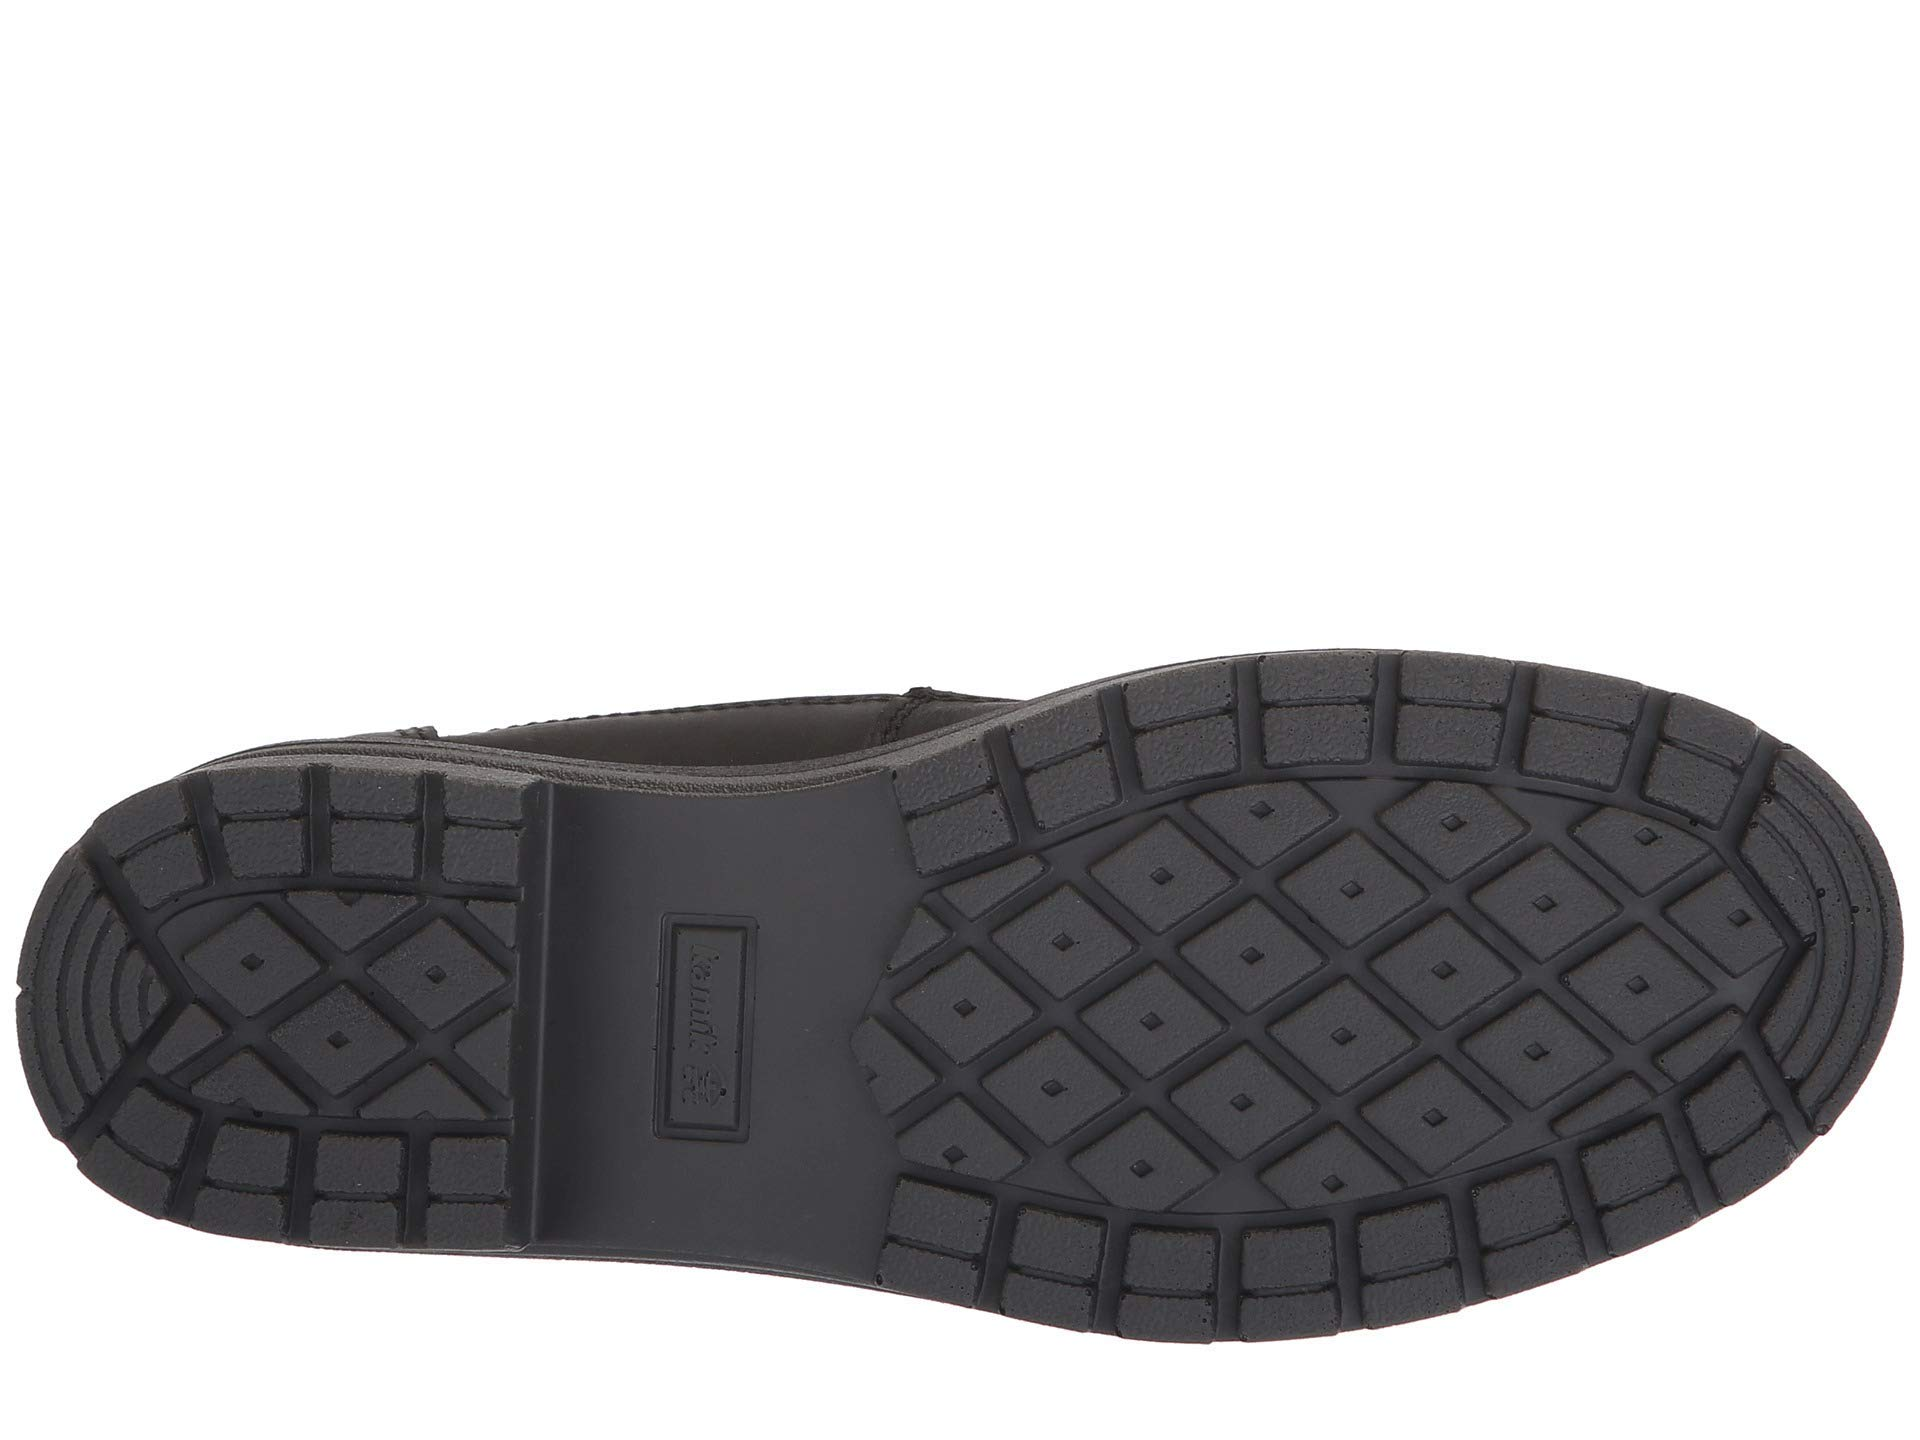quad: (1061, 836, 1624, 1109), (172, 900, 503, 1130), (892, 1168, 1228, 1292), (1442, 1144, 1598, 1286), (1385, 643, 1528, 787), (186, 755, 321, 886), (1235, 1215, 1361, 1342), (1256, 678, 1391, 781), (296, 1130, 413, 1240)
triangle: (1748, 923, 1829, 1094)
